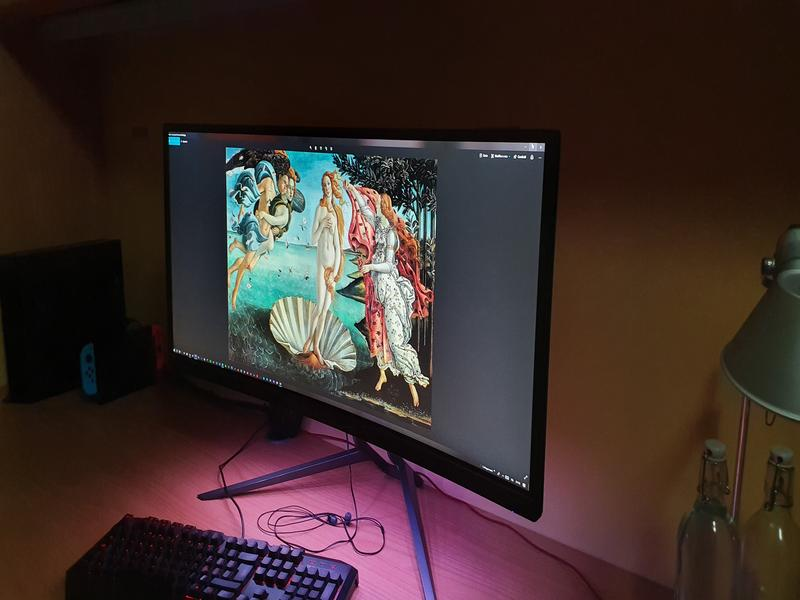Venere: (219, 145, 436, 436)
